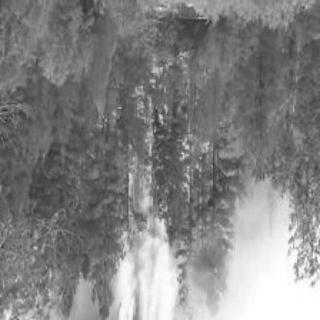Fire: (54, 44, 248, 320)
